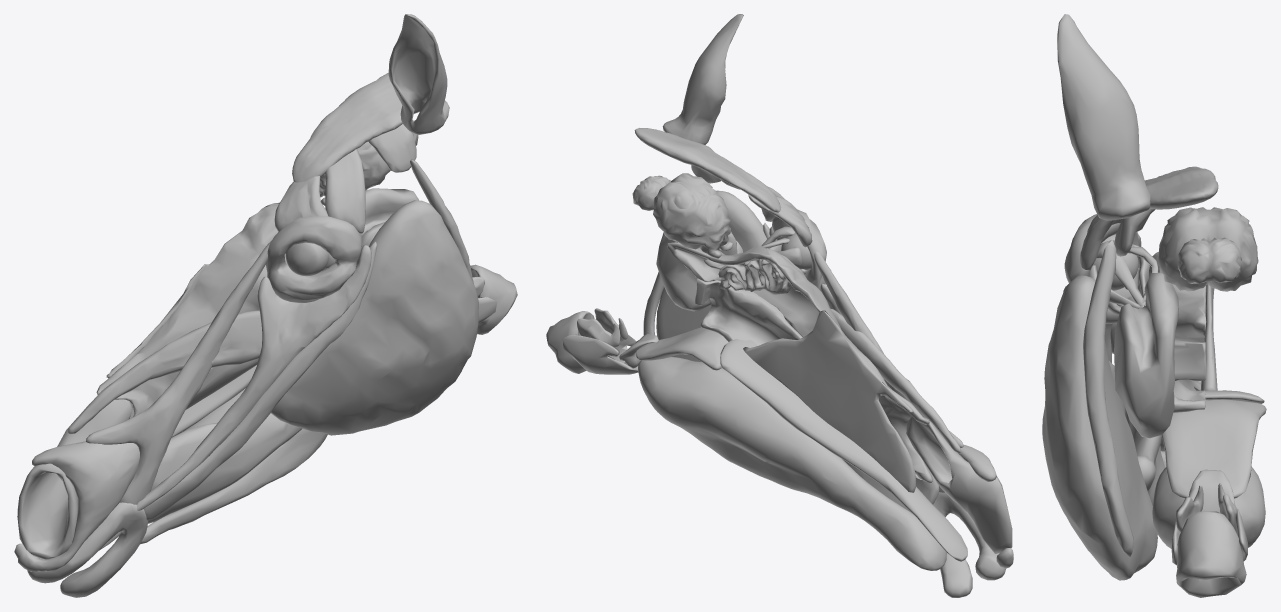
The model's file is Facial_Structures_Combined.glb.
3 renders of one model, left to right at view 1: azimuth 30°, elevation 25°; view 2: azimuth 150°, elevation 25°; view 3: azimuth 270°, elevation 25°, orthographic. The views are drawn at different scales.
Parts seen in each view (by area): view 1: Face_Mucle_22, Face_Mucle_17, Nasal_Chronchae2, Face_Mucle_16, Face_Mucle_19, Nare1, Face_Mucle_29, Face_Mucle_25, Ear1, Face_Mucle_18, Face_Mucle_21, Face_Mucle_23 (+13 smaller); view 2: Tongue1, Nasal_Septum, Hard_Palate1, Nasal_Chronchae2, Nare1, Brain_03, Nasal_Chronchae1_2, Ear1, Face_Mucle_29, Face_Mucle_22, Face_Mucle_20, Face_Mucle_21 (+13 smaller); view 3: Face_Mucle_22, Ear1, Gutteral_Pouch1, Soft_Palate1, Face_Mucle_30, Cricoid_Laryngeal_Cartilage1, Brain_03, Tongue1, Brain_04, Face_Mucle_29, Nasal_Chronchae1_2, Nasal_Chronchae2 (+15 smaller).
Part boxes in pixels (left/top/right/bottom): Face_Mucle_22: left=271, top=200, right=478, bottom=435; Face_Mucle_17: left=137, top=245, right=371, bottom=510; Nasal_Chronchae2: left=96, top=202, right=288, bottom=416; Face_Mucle_16: left=86, top=240, right=271, bottom=504; Face_Mucle_19: left=14, top=441, right=139, bottom=572; Nare1: left=17, top=399, right=133, bottom=559; Face_Mucle_29: left=292, top=73, right=402, bottom=182; Face_Mucle_25: left=266, top=216, right=361, bottom=302; Ear1: left=388, top=14, right=449, bottom=134; Face_Mucle_18: left=143, top=242, right=377, bottom=520; Face_Mucle_21: left=68, top=310, right=262, bottom=434; Face_Mucle_23: left=148, top=413, right=301, bottom=523; Tongue1: left=638, top=357, right=946, bottom=570; Nasal_Septum: left=743, top=310, right=915, bottom=492; Hard_Palate1: left=720, top=339, right=967, bottom=561; Nasal_Chronchae2: left=667, top=242, right=932, bottom=482; Nare1: left=906, top=417, right=1012, bottom=553; Brain_03: left=653, top=173, right=733, bottom=258; Nasal_Chronchae1_2: left=695, top=278, right=921, bottom=479; Ear1: left=662, top=14, right=743, bottom=144; Face_Mucle_29: left=634, top=128, right=781, bottom=212; Face_Mucle_22: left=656, top=190, right=768, bottom=361; Face_Mucle_20: left=933, top=492, right=1005, bottom=597; Face_Mucle_21: left=830, top=308, right=961, bottom=452; Face_Mucle_22: left=1042, top=275, right=1157, bottom=580; Ear1: left=1057, top=14, right=1150, bottom=220; Gutteral_Pouch1: left=1114, top=272, right=1179, bottom=438; Soft_Palate1: left=1162, top=399, right=1266, bottom=498; Face_Mucle_30: left=1083, top=240, right=1133, bottom=556; Cricoid_Laryngeal_Cartilage1: left=1176, top=511, right=1246, bottom=597; Brain_03: left=1158, top=207, right=1258, bottom=291; Tongue1: left=1152, top=467, right=1265, bottom=548; Brain_04: left=1177, top=237, right=1242, bottom=283; Face_Mucle_29: left=1144, top=166, right=1218, bottom=209; Nasal_Chronchae1_2: left=1173, top=340, right=1205, bottom=412; Nasal_Chronchae2: left=1138, top=251, right=1206, bottom=390.
Bounding box in the file's own units: 0.5652 × 0.5786 × 0.1663.
Materials: 39 (39 with a texture image).
